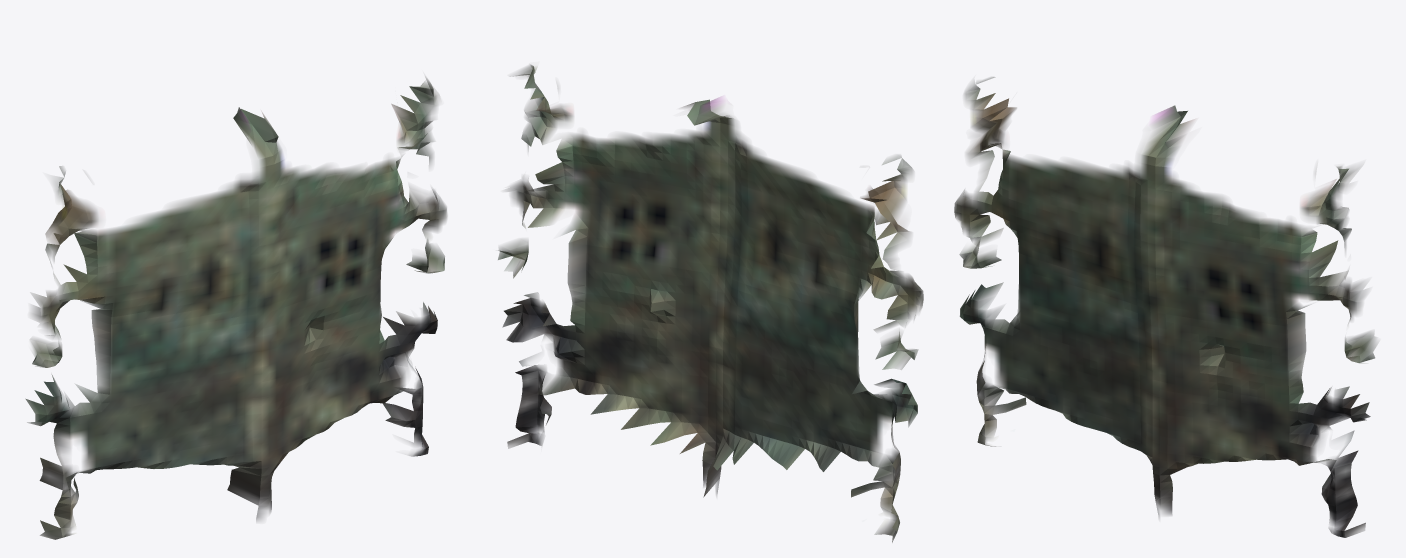
Rendered from exhibit.glb.
The picture shows the model from 3 angles, left to right: view 1: azimuth 30°, elevation 25°; view 2: azimuth 150°, elevation 25°; view 3: azimuth 330°, elevation 25°; orthographic projection.
Parts seen in each view (by area): view 1: observed-front-depth-card; view 2: observed-front-depth-card; view 3: observed-front-depth-card.
Part boxes in pixels (<box>): observed-front-depth-card: <box>25,76,447,539</box>; observed-front-depth-card: <box>498,64,923,542</box>; observed-front-depth-card: <box>954,77,1377,537</box>.
Bounding box in the file's own units: 1.16 × 1.26 × 0.1722.
Materials: 1 (1 with a texture image).
